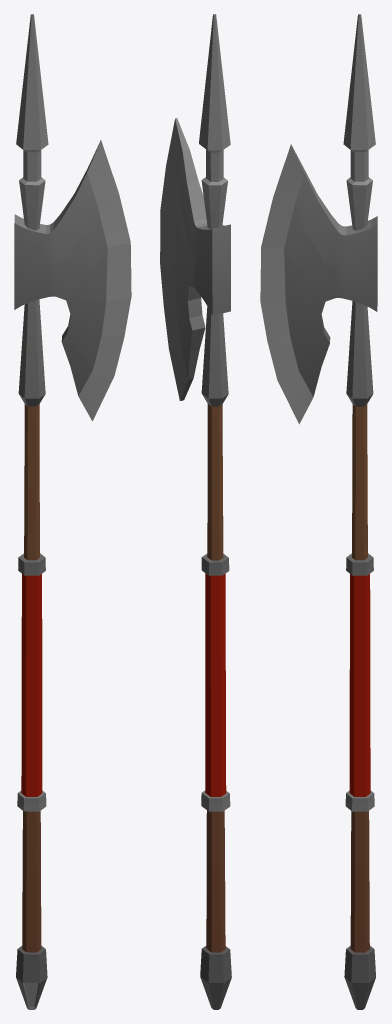
File: obj_lance.02.fbx
3 renders of one model, left to right at view 1: azimuth 90°, elevation 25°; view 2: azimuth 210°, elevation 25°; view 3: azimuth 270°, elevation 25°, orthographic.
Parts seen in each view (by area): view 1: Cube.061; view 2: Cube.061; view 3: Cube.061.
Part boxes in pixels (box(x1,y1,x2,y2)): Cube.061: box(14, 14, 131, 1009); Cube.061: box(160, 14, 231, 1009); Cube.061: box(260, 14, 377, 1009).
Bounding box in the file's own units: 50.19 × 1965 × 210.
